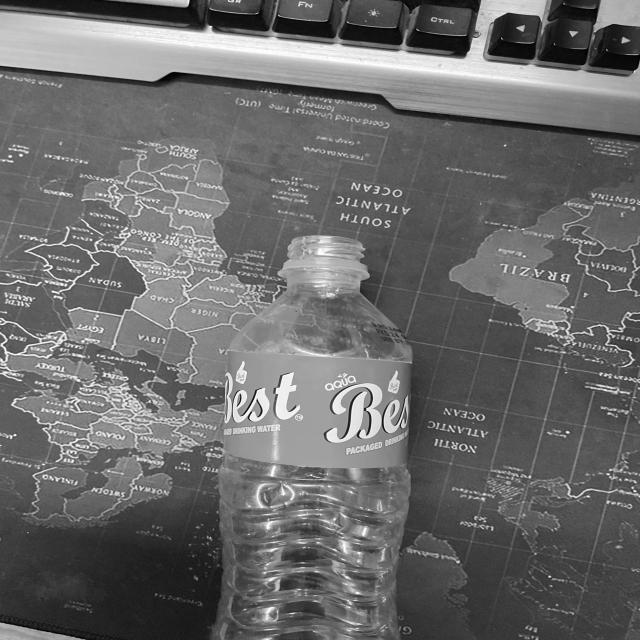open-cap: (283, 233, 369, 275)
